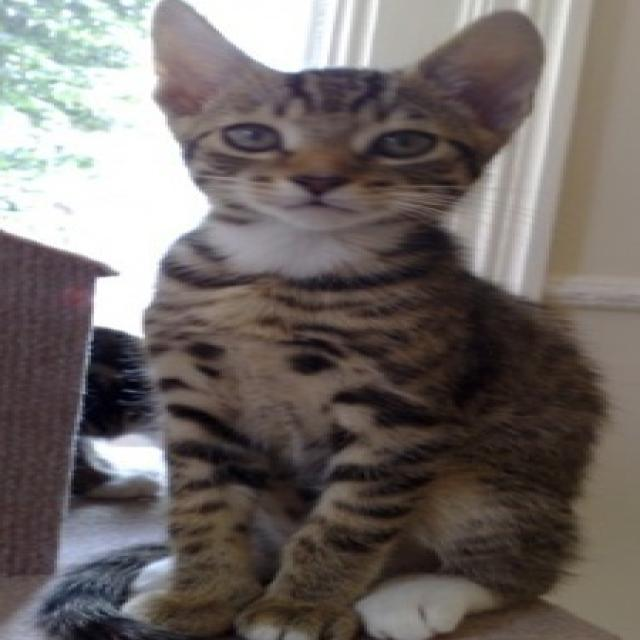Egyptian Mau: (40, 0, 609, 640)
